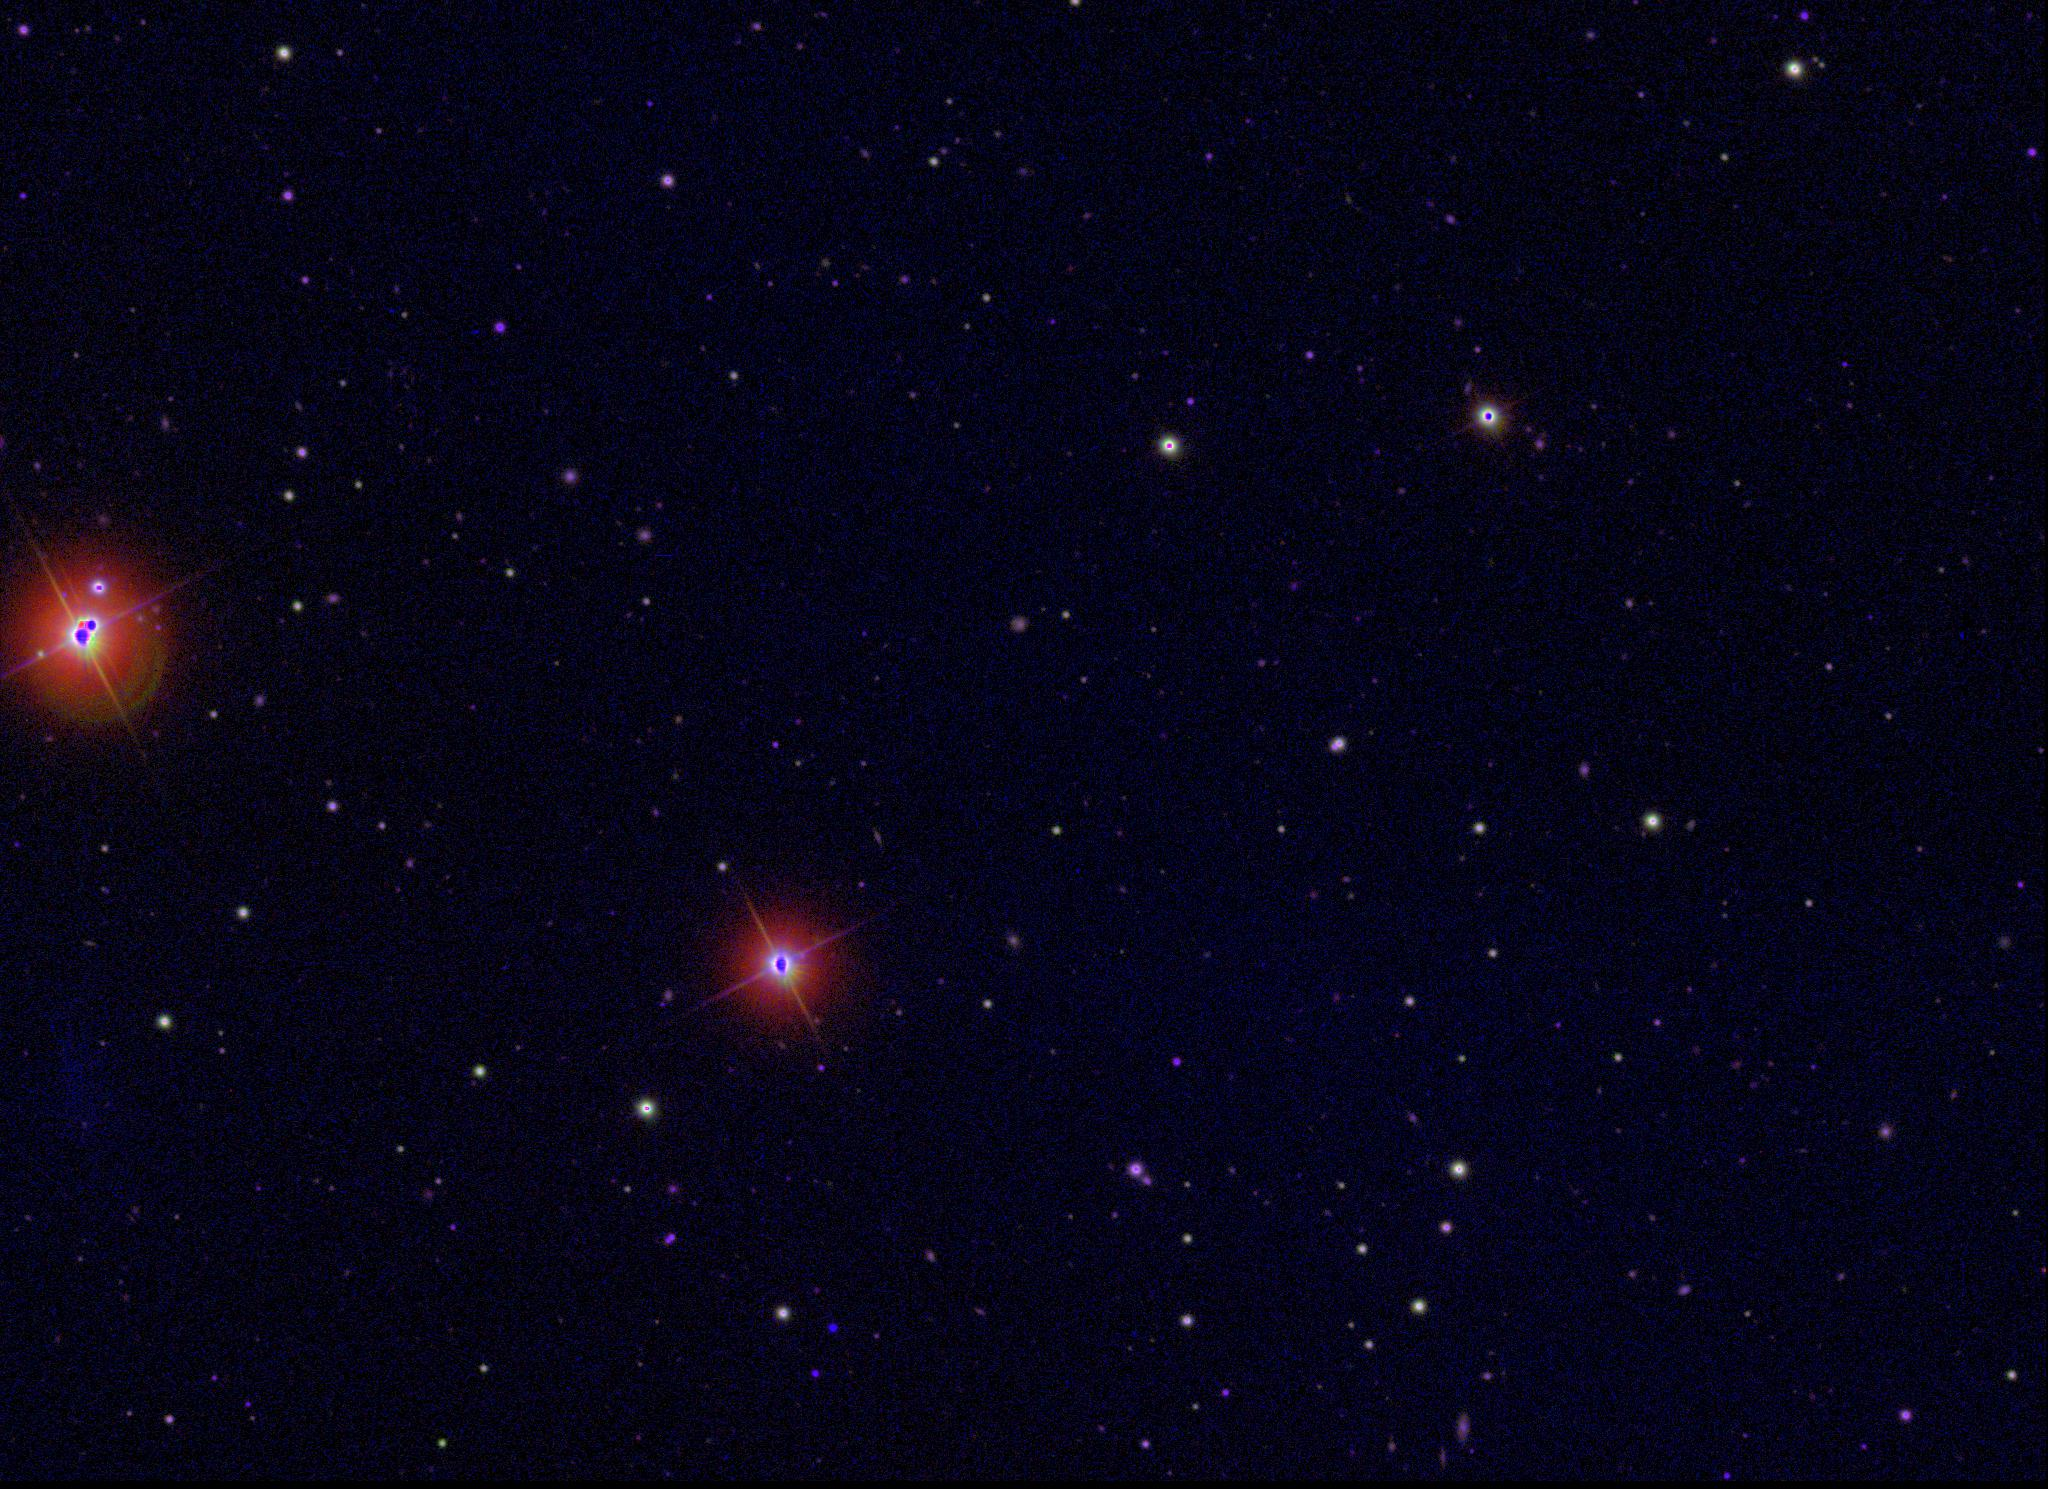L: (825, 1319, 840, 1332)
